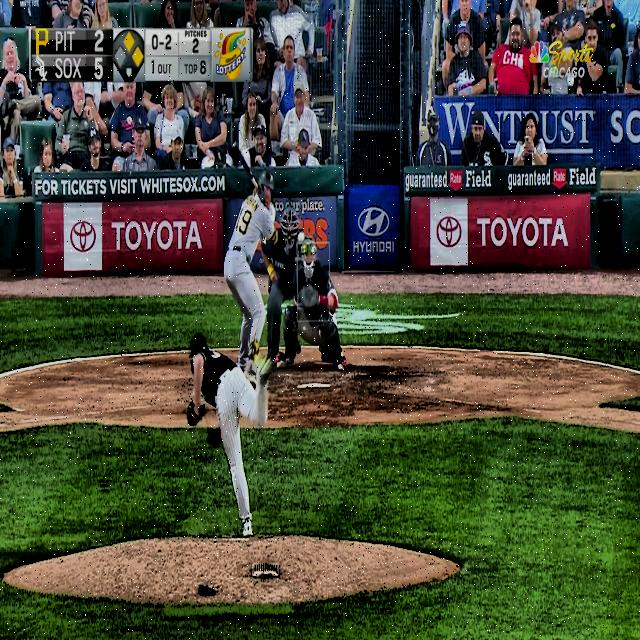baseball: (298, 232, 305, 243)
